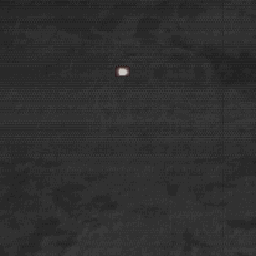Target: (115, 65, 131, 77)
